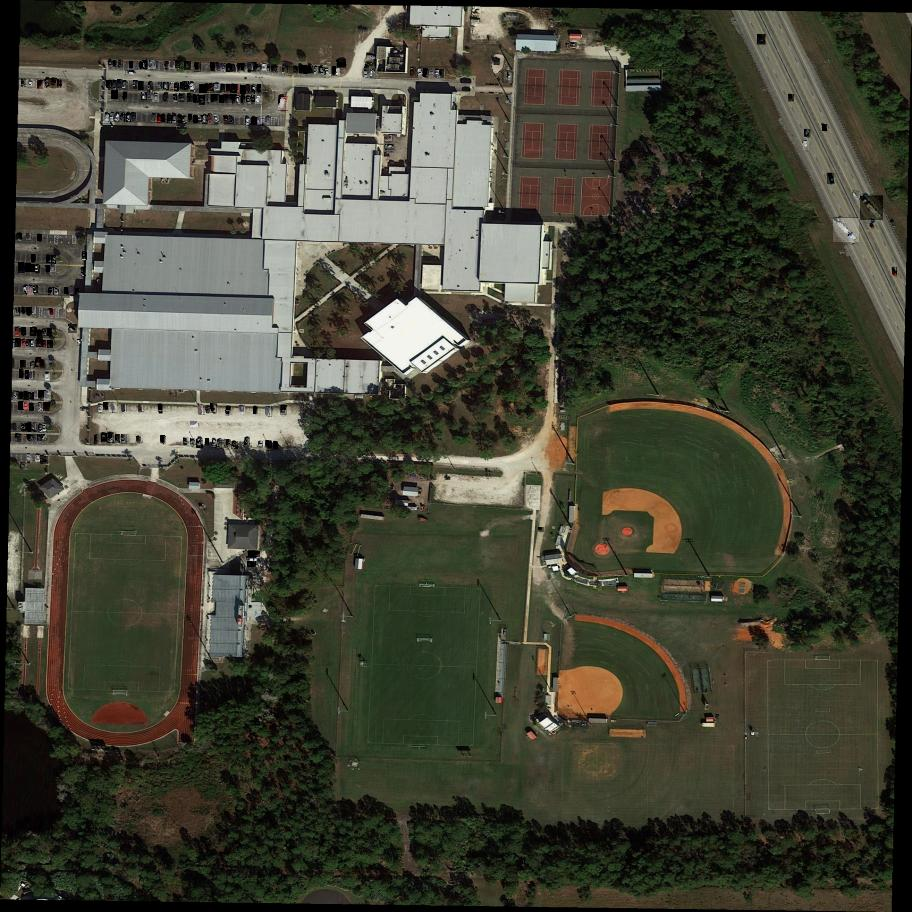large-vehicle: (833, 217, 859, 243), (859, 196, 883, 221), (277, 96, 289, 112), (108, 432, 115, 444)
small-vehicle: (264, 116, 273, 127), (109, 403, 118, 414), (758, 34, 767, 45), (27, 80, 36, 90), (69, 324, 78, 334), (38, 390, 47, 400), (162, 92, 170, 103), (24, 263, 32, 274), (50, 79, 58, 90), (280, 406, 288, 417), (266, 407, 274, 418), (125, 71, 137, 78), (828, 173, 835, 185), (229, 94, 237, 104), (255, 96, 263, 106), (115, 113, 123, 123), (153, 92, 161, 102), (18, 263, 26, 273), (207, 115, 215, 125), (148, 60, 156, 70), (45, 79, 53, 89), (37, 80, 45, 90), (199, 84, 207, 94), (194, 62, 202, 72), (307, 65, 315, 75), (433, 69, 441, 79), (43, 391, 51, 401), (336, 62, 347, 69), (178, 93, 186, 102), (112, 91, 120, 100), (230, 441, 238, 450), (210, 404, 218, 413), (190, 421, 199, 429), (248, 551, 260, 557), (199, 95, 206, 105), (122, 91, 129, 101), (183, 82, 190, 92), (231, 63, 238, 73), (225, 406, 232, 416), (198, 405, 205, 415), (319, 66, 326, 76), (385, 144, 395, 151), (18, 401, 25, 411), (43, 402, 50, 412), (35, 358, 41, 369), (224, 94, 231, 103), (245, 96, 252, 105), (104, 113, 111, 122), (50, 264, 57, 273), (230, 84, 237, 93), (169, 61, 176, 70), (184, 61, 191, 70), (163, 82, 170, 91), (37, 339, 44, 348), (28, 392, 35, 401), (367, 54, 377, 60), (273, 64, 279, 74), (247, 561, 257, 567), (29, 286, 35, 296), (15, 327, 21, 337), (80, 407, 90, 413), (16, 433, 22, 443), (257, 117, 264, 125), (244, 118, 251, 126), (228, 117, 235, 125), (224, 116, 231, 124), (213, 116, 220, 124), (214, 84, 221, 92), (215, 63, 222, 71), (805, 130, 812, 138), (47, 340, 54, 348), (219, 95, 225, 104), (240, 85, 246, 94), (127, 114, 133, 123), (51, 255, 57, 264), (30, 264, 36, 273), (202, 115, 208, 124), (190, 83, 196, 92), (174, 83, 180, 92), (138, 81, 144, 90), (252, 63, 258, 72), (239, 406, 245, 415), (313, 66, 319, 75), (158, 405, 164, 414), (803, 141, 809, 150), (184, 437, 190, 446), (47, 328, 53, 337), (55, 287, 61, 296), (49, 287, 55, 296), (41, 455, 47, 464), (112, 80, 117, 90), (147, 91, 153, 99), (142, 93, 148, 101), (108, 60, 114, 68), (174, 61, 180, 69), (205, 84, 211, 92), (226, 64, 232, 72), (293, 66, 299, 74), (245, 437, 251, 445), (205, 406, 211, 414), (137, 405, 143, 413), (246, 557, 258, 561), (853, 191, 859, 199), (418, 68, 424, 76), (385, 136, 393, 142), (41, 340, 47, 348), (22, 339, 28, 347), (37, 330, 43, 338), (49, 308, 55, 316), (26, 307, 32, 315), (26, 455, 32, 463), (23, 402, 29, 410), (121, 113, 126, 122), (188, 93, 193, 102), (303, 65, 308, 74), (197, 439, 202, 448), (439, 69, 444, 78), (789, 93, 794, 102), (30, 370, 35, 379), (359, 29, 370, 33), (17, 233, 23, 240), (164, 62, 170, 69), (266, 441, 272, 448), (45, 374, 51, 381), (21, 328, 27, 335), (20, 360, 26, 367), (101, 434, 107, 441), (236, 95, 241, 103), (246, 84, 251, 92), (131, 112, 136, 120), (152, 114, 157, 122), (193, 115, 198, 123), (167, 115, 172, 123), (104, 403, 109, 411), (822, 124, 827, 132), (326, 68, 331, 76), (411, 68, 416, 76), (16, 339, 21, 347), (36, 455, 41, 463), (98, 406, 104, 412), (25, 370, 29, 379), (122, 434, 126, 443), (211, 94, 216, 101), (205, 95, 210, 102), (37, 234, 42, 241), (252, 117, 257, 124), (220, 85, 225, 92), (153, 62, 158, 69), (117, 80, 122, 87), (248, 63, 253, 70), (210, 63, 215, 70), (253, 407, 258, 414), (273, 442, 278, 449), (212, 440, 217, 447), (430, 68, 435, 75), (31, 362, 36, 369), (31, 328, 36, 335), (70, 287, 75, 294), (33, 286, 38, 293), (22, 423, 27, 430), (13, 392, 18, 399), (194, 95, 198, 103), (236, 84, 240, 92), (46, 255, 50, 263), (36, 265, 40, 273), (157, 115, 161, 123), (178, 115, 182, 123), (172, 115, 176, 123), (143, 61, 147, 69), (139, 61, 143, 69), (123, 81, 127, 89), (268, 65, 272, 73), (222, 63, 226, 71), (299, 65, 303, 73), (122, 404, 126, 412), (424, 68, 428, 76), (41, 360, 45, 368), (27, 339, 31, 347), (22, 307, 26, 315), (116, 434, 120, 442), (43, 424, 47, 432), (24, 392, 28, 400), (30, 403, 34, 411), (251, 95, 256, 101), (110, 113, 115, 119), (252, 86, 257, 92), (82, 253, 87, 259), (197, 116, 203, 121), (226, 85, 231, 91), (262, 65, 267, 71), (257, 85, 261, 92), (188, 115, 192, 122), (129, 61, 133, 68), (21, 80, 25, 87), (210, 83, 214, 90), (180, 83, 184, 90), (107, 80, 111, 87), (257, 65, 261, 72), (237, 64, 241, 71), (31, 255, 35, 262), (161, 436, 165, 443), (869, 221, 873, 228), (32, 307, 36, 314), (27, 424, 31, 431), (38, 434, 42, 441), (39, 425, 43, 432), (19, 392, 23, 399), (34, 392, 38, 399), (218, 439, 221, 448), (365, 68, 368, 77), (20, 369, 23, 378), (241, 95, 244, 103), (27, 234, 31, 240), (161, 115, 165, 121), (119, 60, 122, 68), (170, 83, 174, 89), (149, 82, 152, 90), (242, 63, 245, 71), (24, 287, 28, 293), (283, 67, 287, 73), (226, 440, 230, 446), (205, 438, 209, 444), (371, 69, 374, 77), (365, 63, 373, 66), (336, 69, 340, 75), (332, 67, 336, 73), (32, 339, 35, 347), (43, 330, 47, 336), (94, 436, 97, 444), (32, 424, 36, 430), (215, 94, 218, 101), (893, 268, 896, 275), (82, 268, 85, 275), (183, 116, 186, 123), (16, 308, 19, 315), (259, 442, 263, 447), (190, 439, 194, 444), (78, 340, 82, 345), (31, 435, 35, 440), (58, 79, 60, 88), (336, 60, 345, 62), (43, 434, 46, 440), (134, 80, 136, 88), (27, 435, 31, 439), (39, 403, 41, 411), (174, 95, 177, 100), (159, 83, 162, 88), (46, 266, 49, 271), (75, 289, 78, 294), (137, 436, 139, 443), (113, 60, 115, 66), (539, 528, 543, 531), (65, 288, 67, 294)
